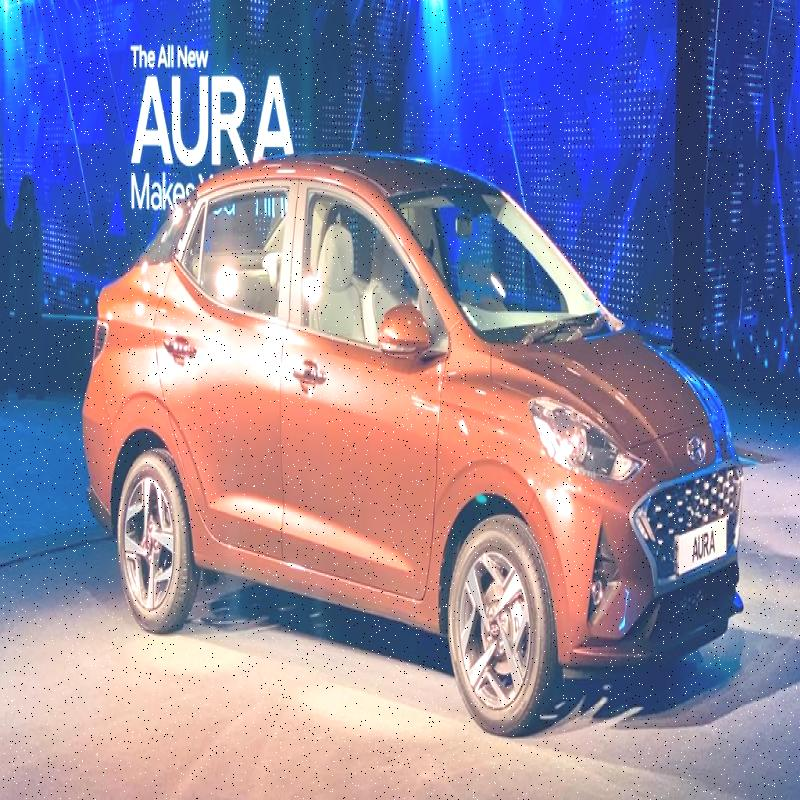car: (73, 148, 748, 735)
